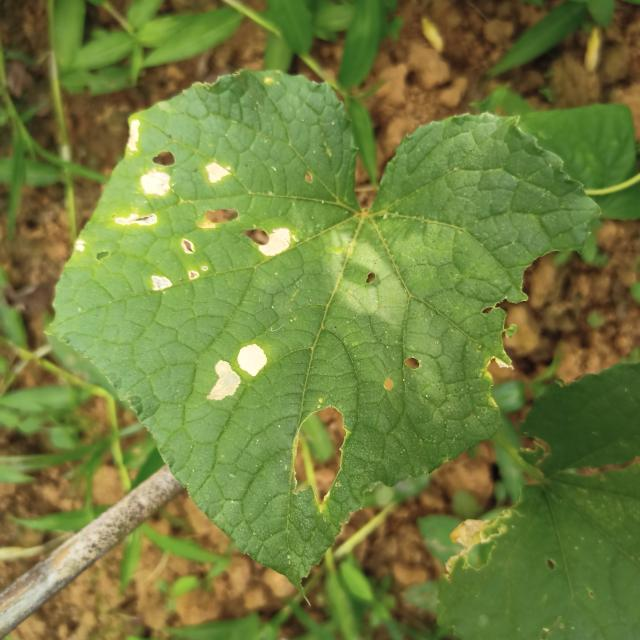disease_cucumber: (117, 117, 291, 292), (208, 346, 267, 402)
